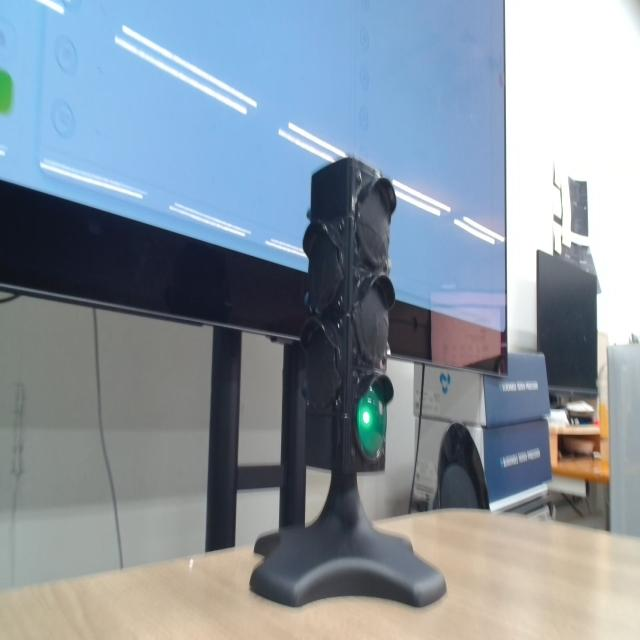green_light: (357, 385, 386, 459)
